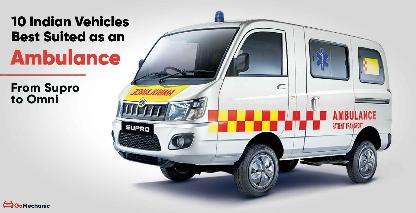priority: (113, 18, 397, 196)
